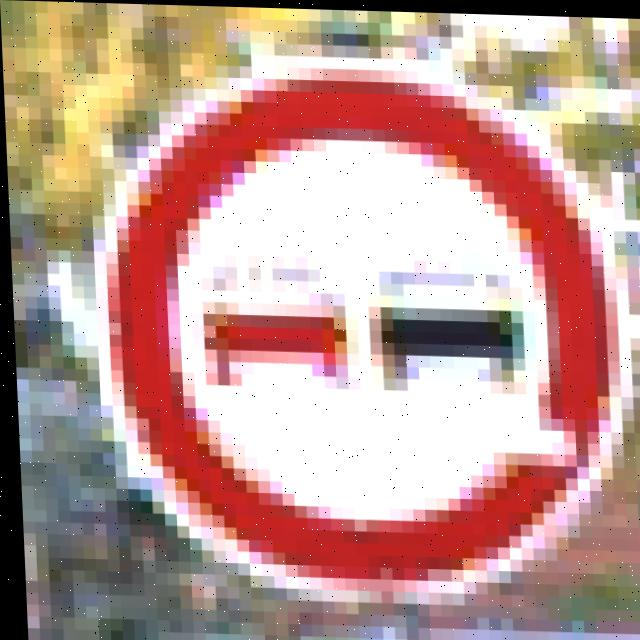no_overtaking: (83, 60, 640, 610)
